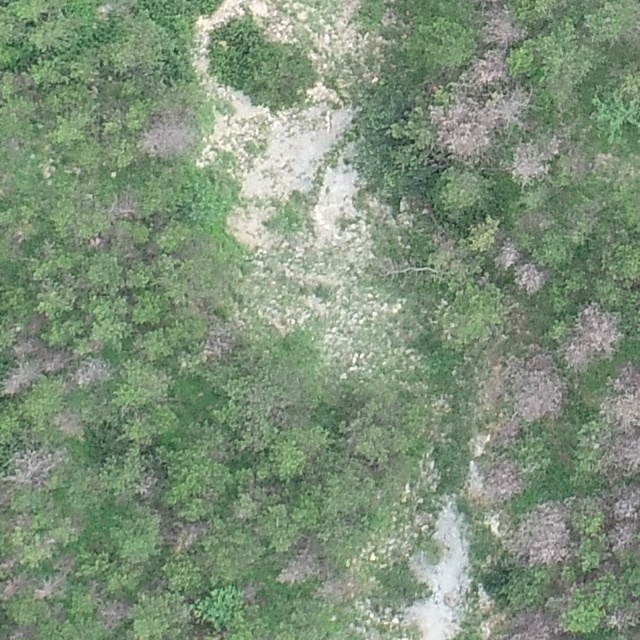unhealthy: (504, 497, 579, 567), (563, 294, 621, 360), (430, 101, 489, 162), (511, 353, 565, 419), (139, 107, 195, 160), (600, 362, 639, 430), (10, 446, 65, 488), (480, 5, 528, 47), (506, 607, 565, 640), (485, 87, 533, 127), (480, 458, 524, 501), (510, 140, 550, 184), (199, 315, 237, 360), (604, 430, 640, 477), (464, 53, 508, 90), (279, 547, 320, 585), (0, 362, 40, 397), (69, 358, 113, 389), (171, 518, 209, 553), (96, 597, 134, 631), (486, 415, 525, 448), (32, 567, 71, 600), (608, 483, 640, 520), (515, 260, 549, 294), (315, 576, 355, 602), (606, 520, 638, 552), (106, 191, 141, 220), (54, 407, 85, 437), (603, 605, 637, 631), (134, 471, 161, 501), (41, 347, 71, 373), (495, 241, 521, 271), (7, 337, 42, 359), (0, 574, 22, 601), (241, 581, 263, 603), (7, 624, 36, 639)
